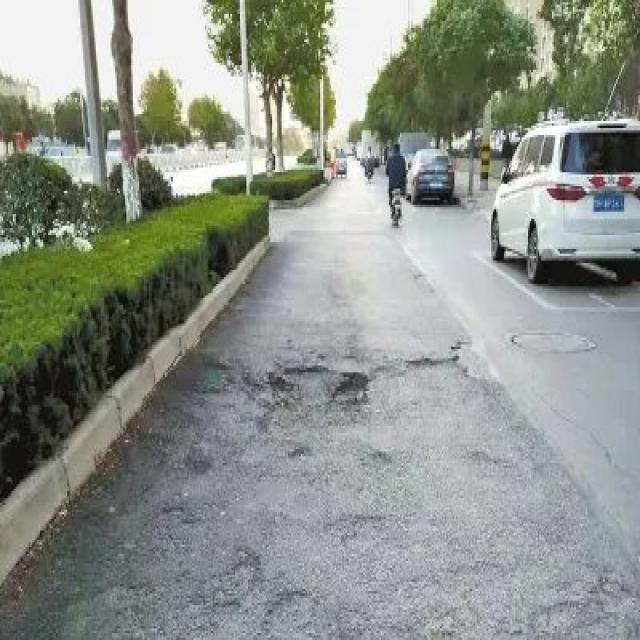Pothole: (255, 356, 372, 417), (426, 338, 491, 387)
